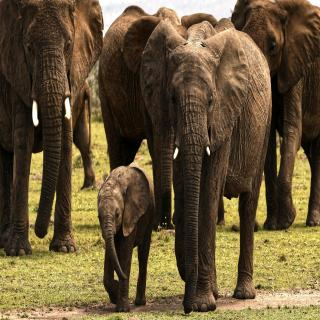Elephant: (134, 18, 276, 316), (0, 0, 106, 261), (95, 160, 157, 318)
